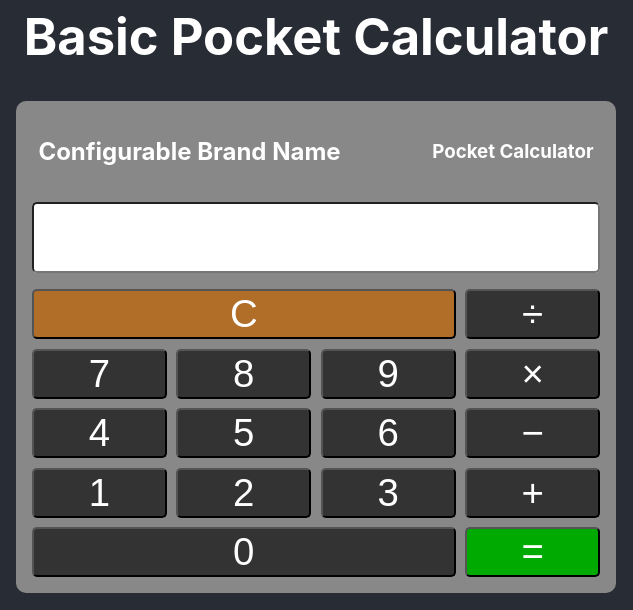
Test: Calculator › should be able to perform a correct calculation: 8/2=4
Click the button with test id "Eight": (244, 374) [176,349,311,399]
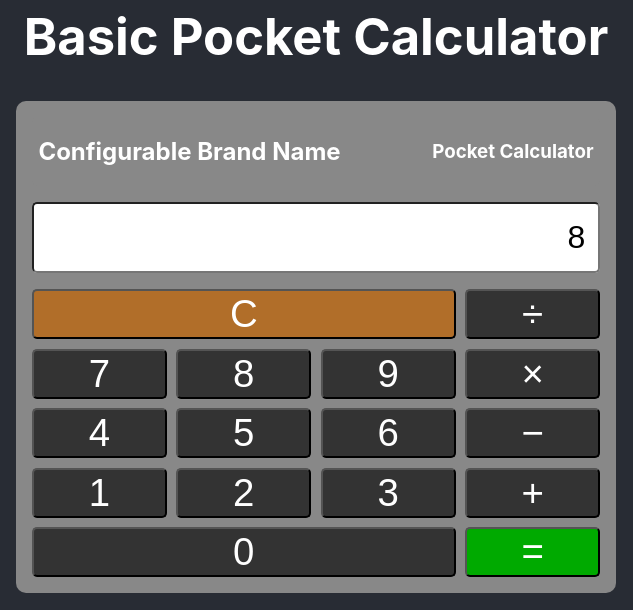
Click the button with test id "Divide": (533, 314) [465,289,600,339]
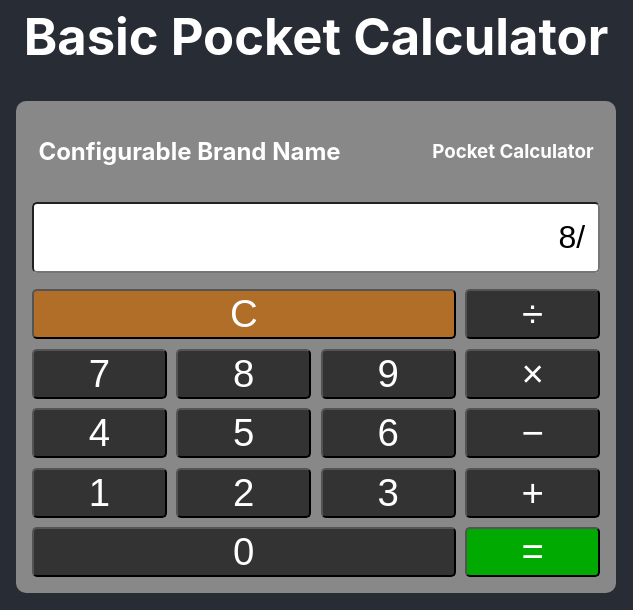
Click the button with test id "Two": (244, 493) [176,468,311,518]
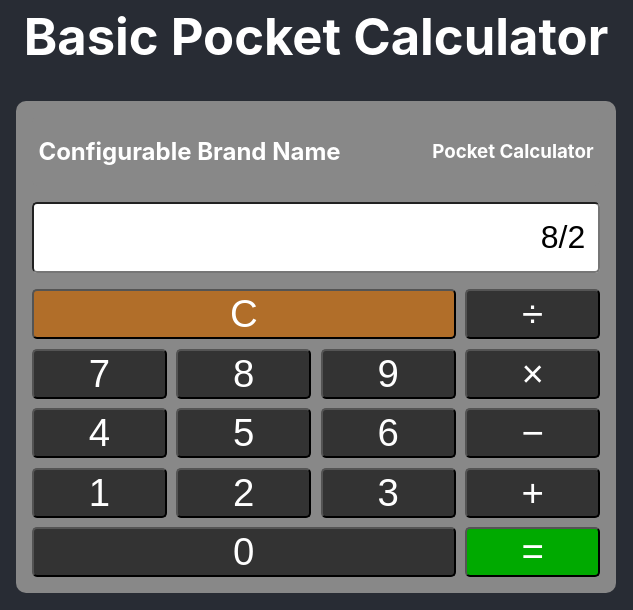
Click the button with test id "Equal": (533, 552) [465,527,600,577]
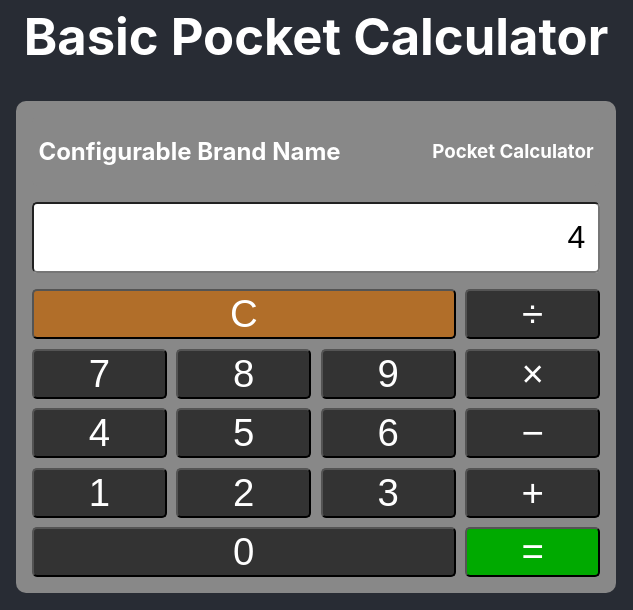
Result: the field holds "4" at [32,202,600,273]
